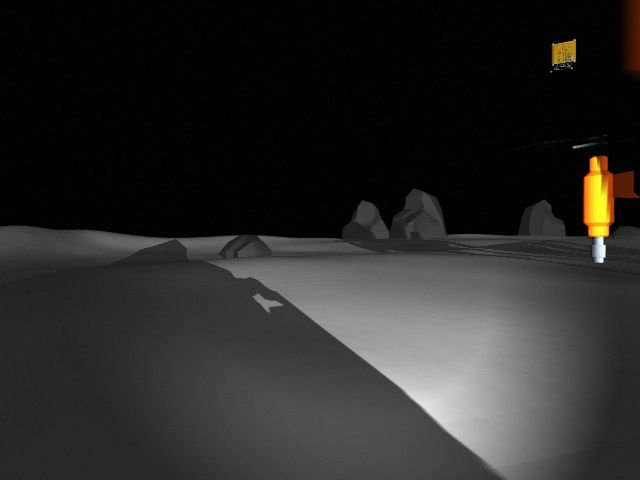cubesat: (545, 34, 590, 77)
